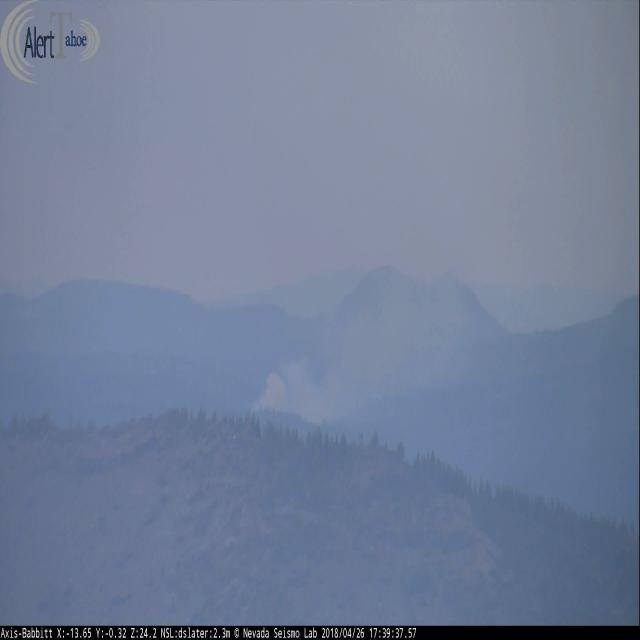smoke: (254, 279, 446, 419)
